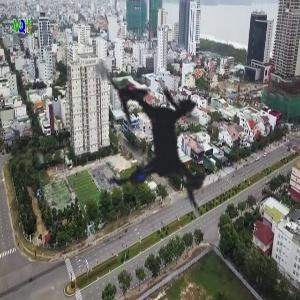drone: (21, 4, 292, 275)
